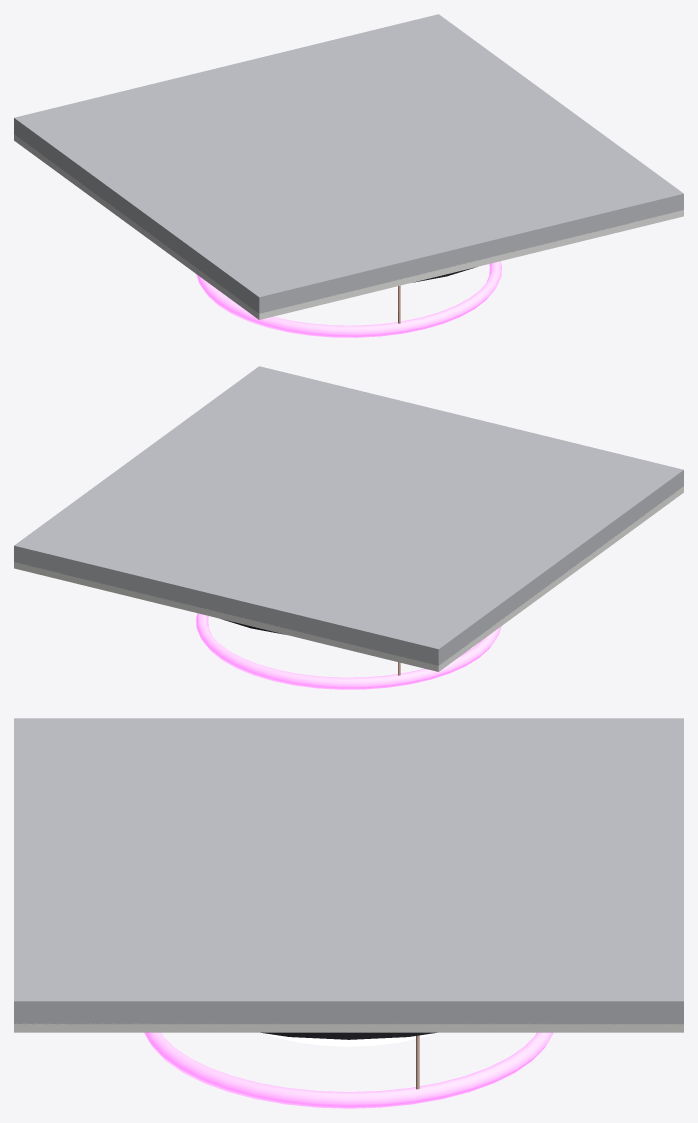
The model's file is ceil_halo.glb.
The picture shows the model from 3 angles, top to bottom: view 1: azimuth 30°, elevation 25°; view 2: azimuth 150°, elevation 25°; view 3: azimuth 270°, elevation 25°; orthographic projection. The views are drawn at different scales.
Visible parts, largest first — view 1: ceil_halo; view 2: ceil_halo; view 3: ceil_halo.
Boxes of the visible parts, x1,y1,x2,y2 form: ceil_halo: [14, 14, 683, 337]; ceil_halo: [14, 366, 683, 689]; ceil_halo: [14, 718, 683, 1108].
Bounding box in the file's own units: 4 × 1.07 × 4.
